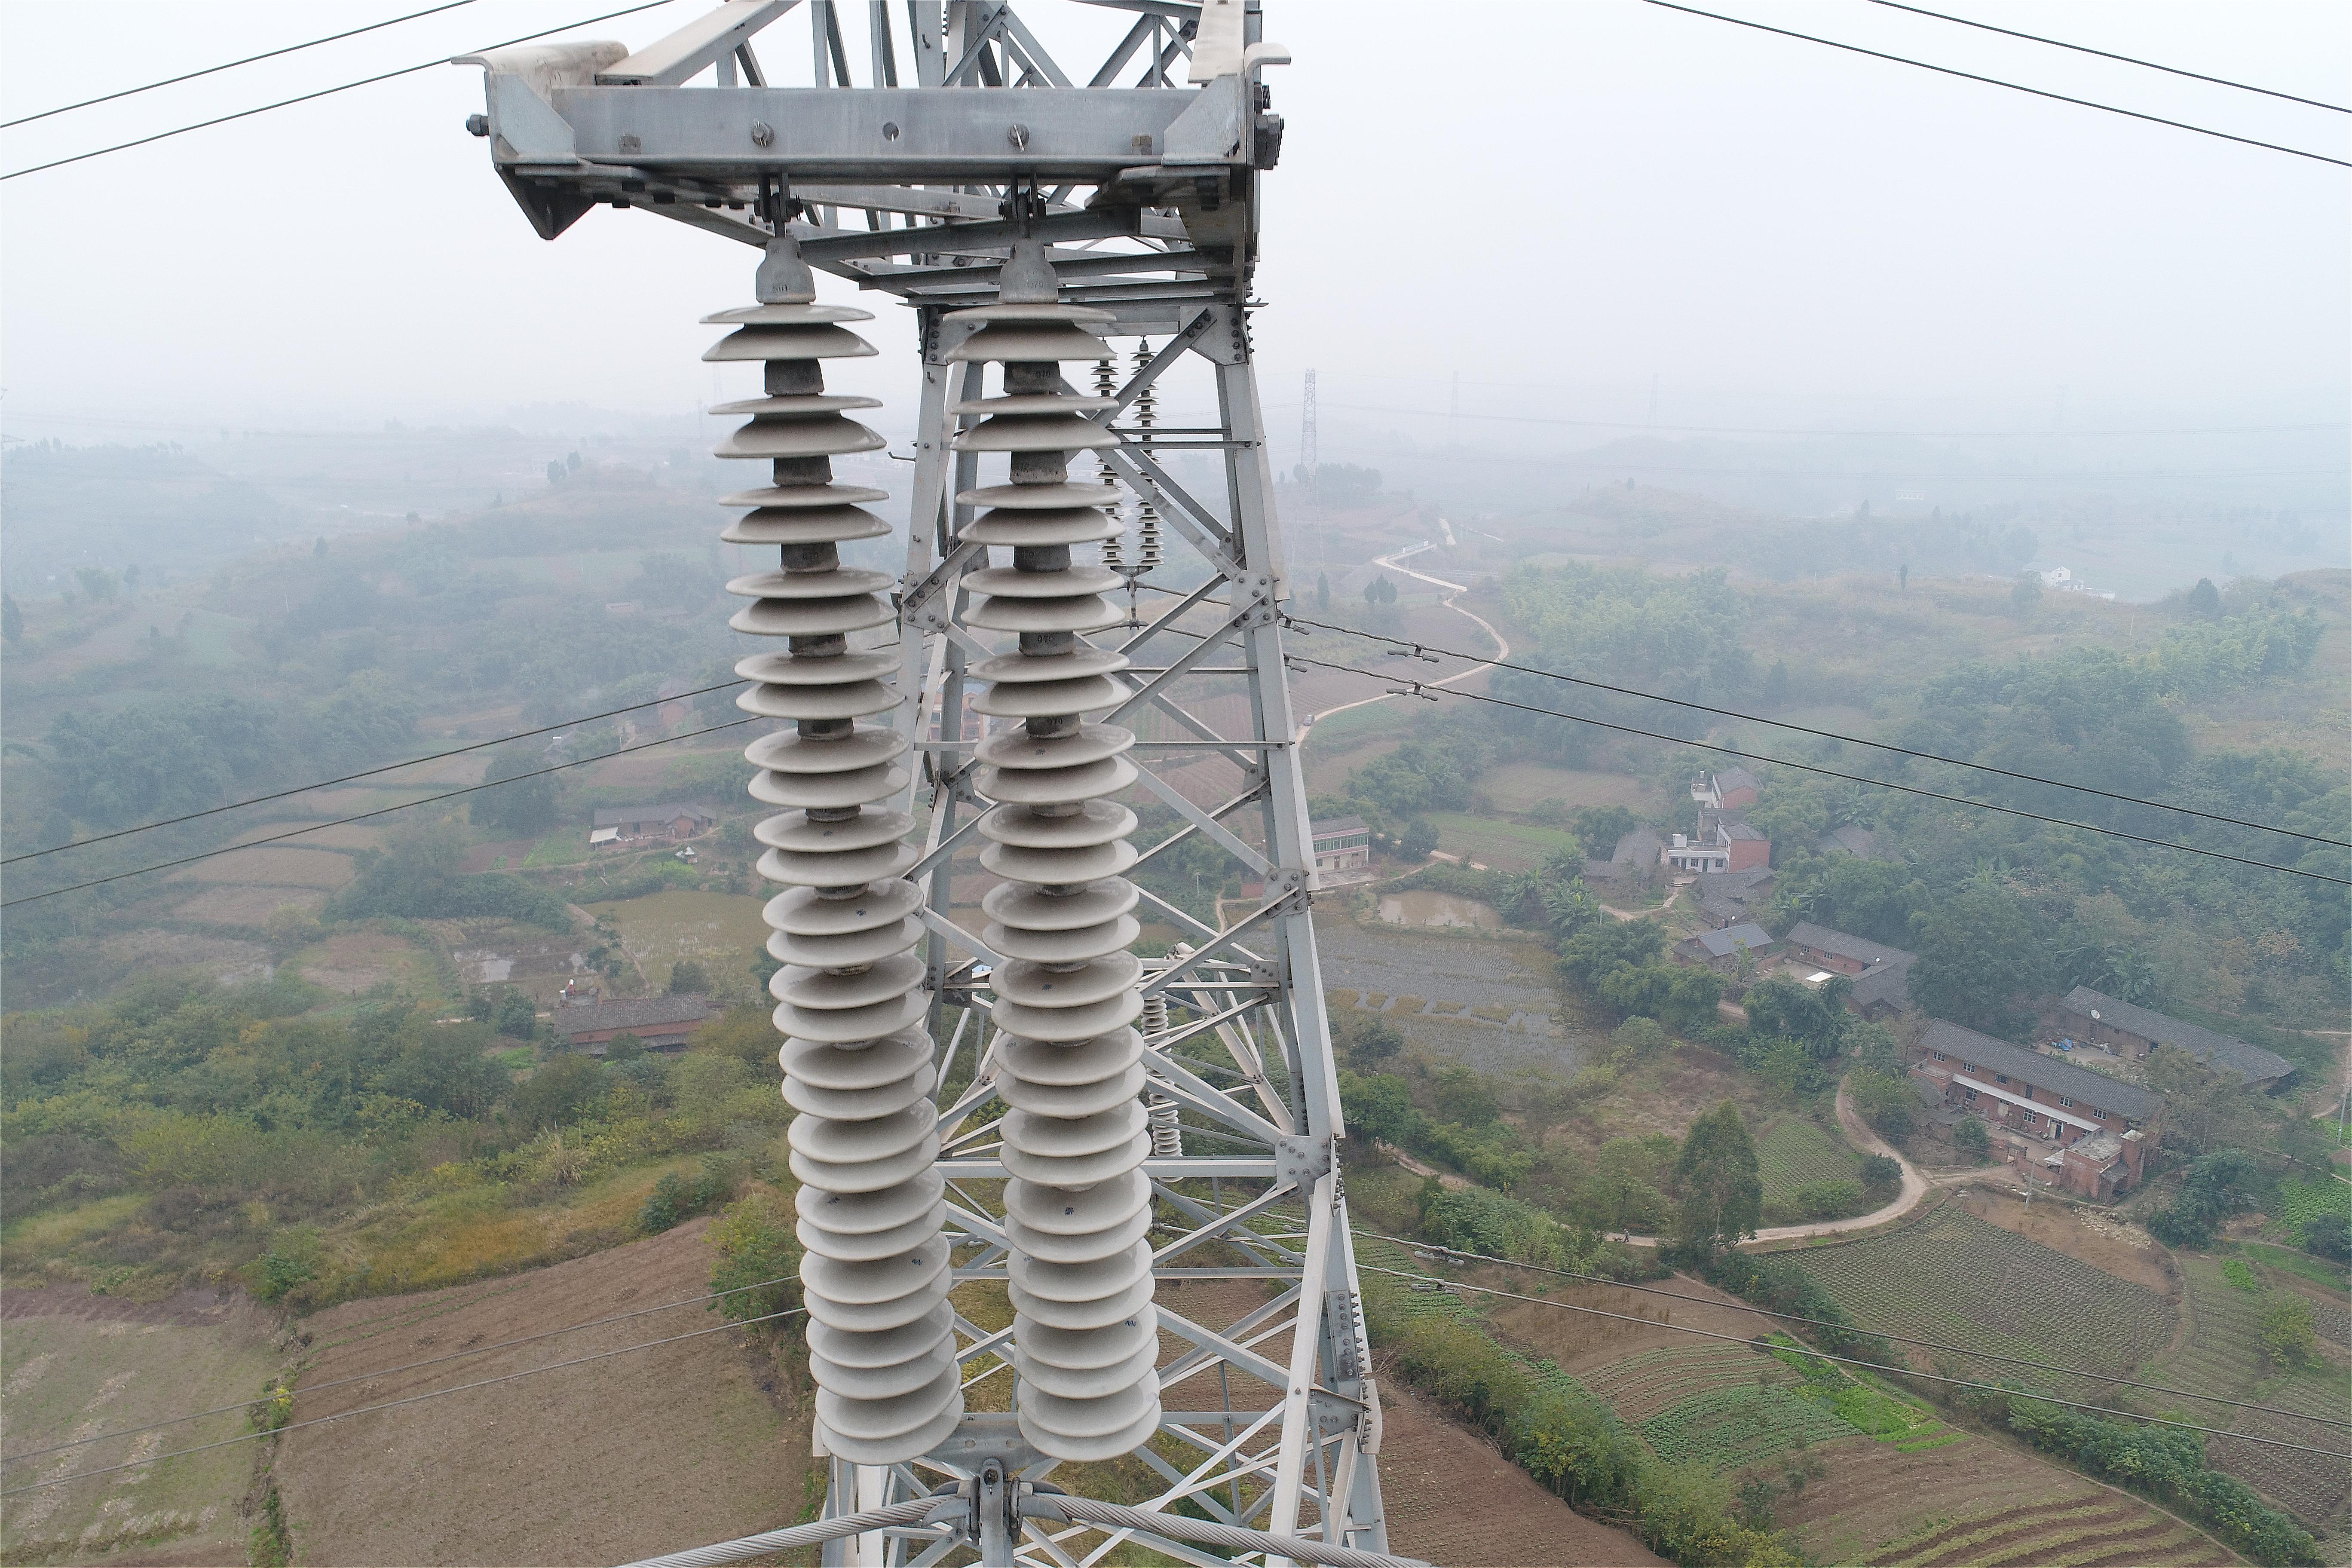insultor4: (653, 285, 1195, 1475)
